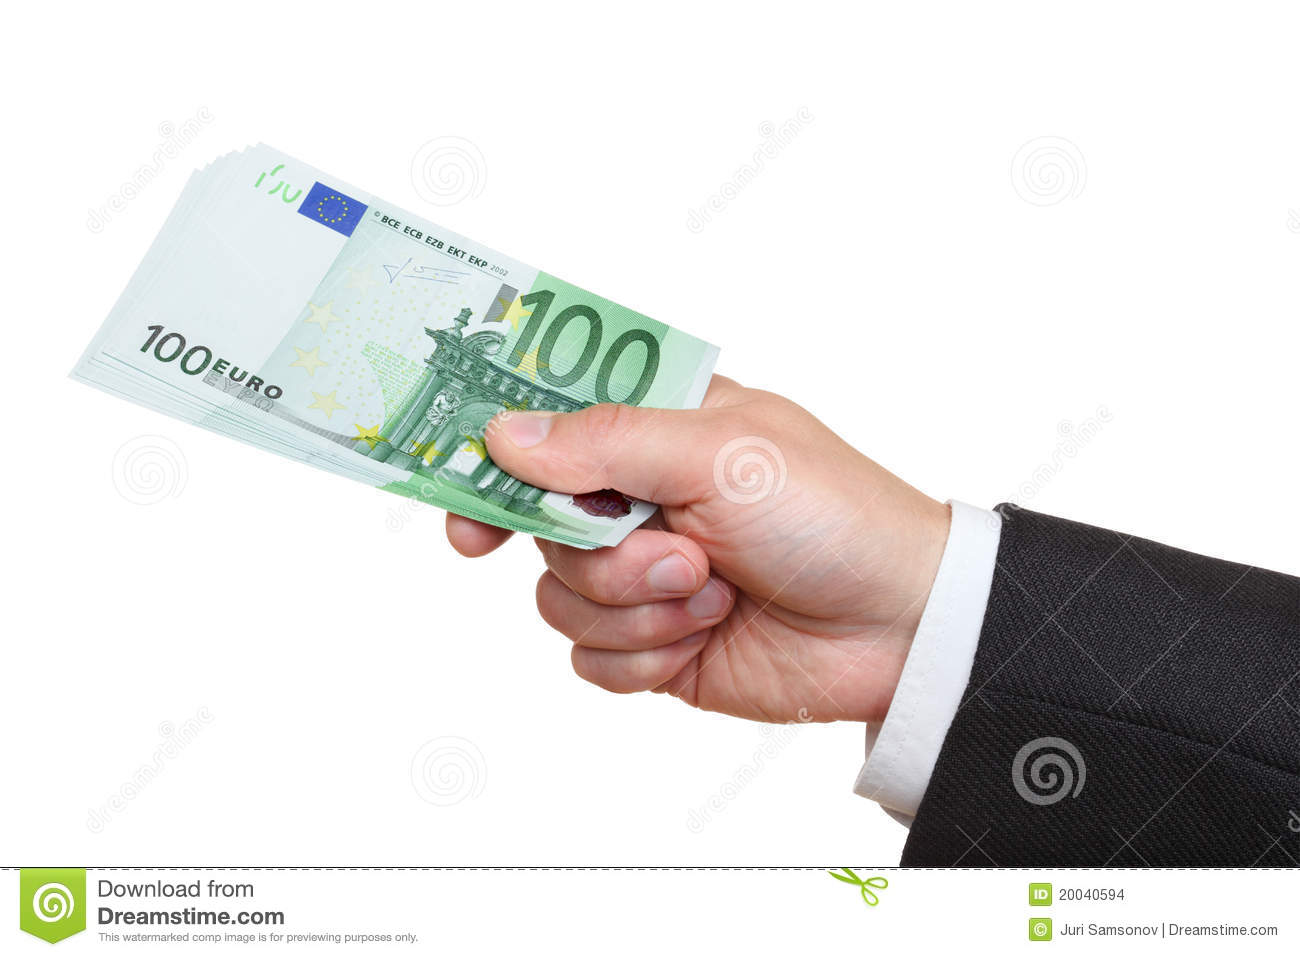billete: (62, 138, 728, 558)
